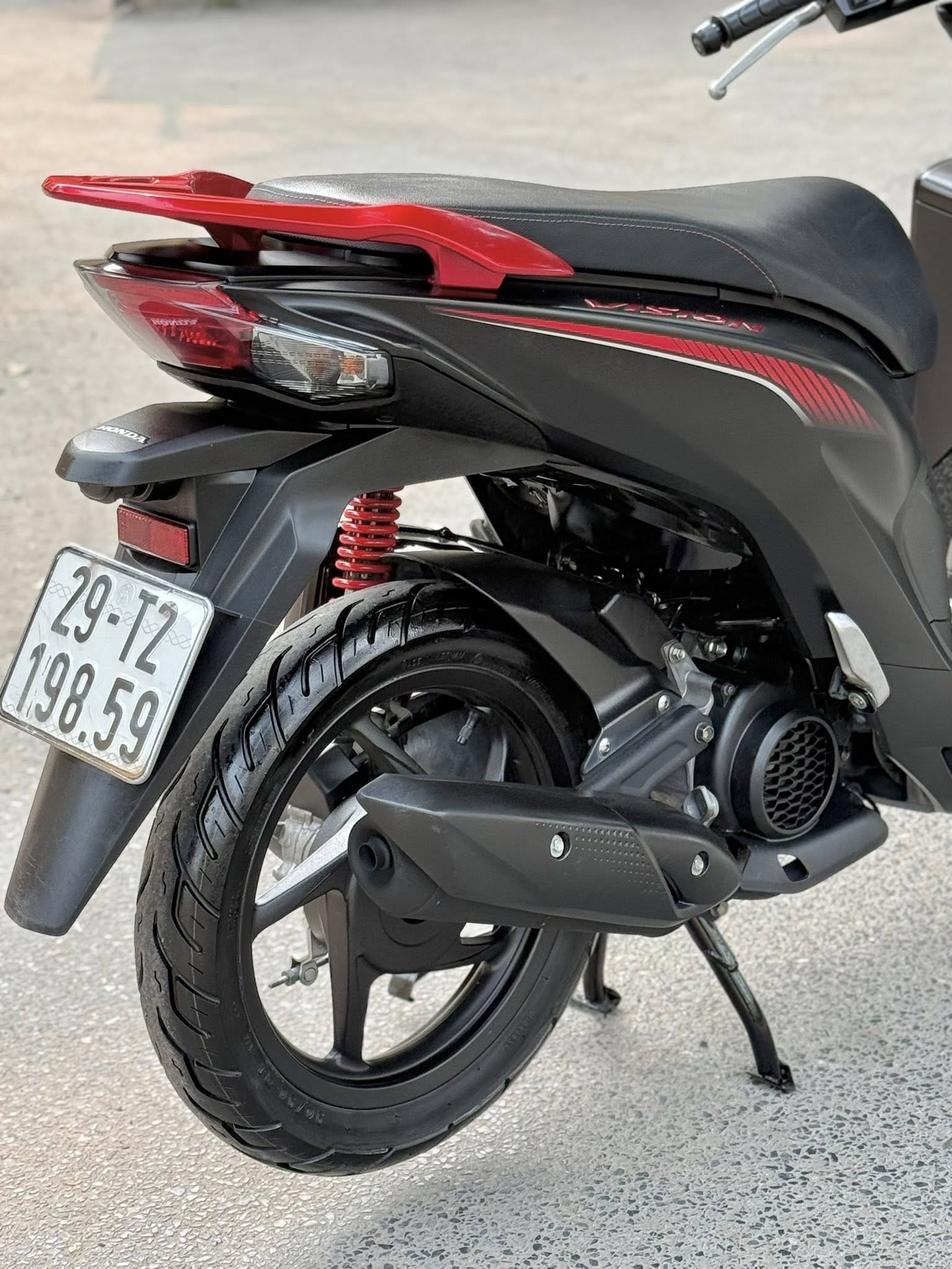bien_so: (1, 535, 218, 789)
